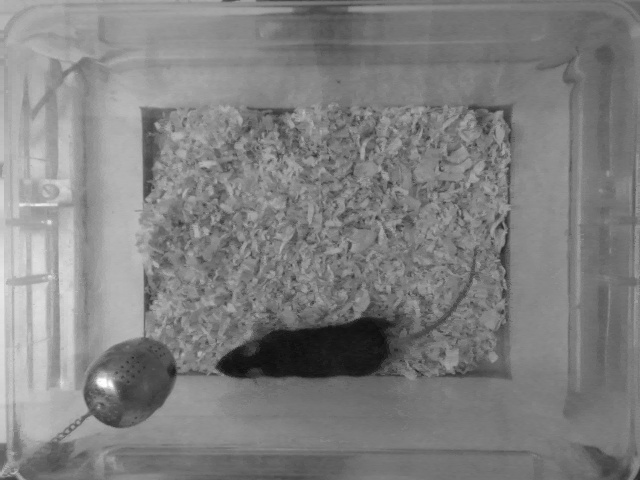mice: (211, 245, 484, 384)
